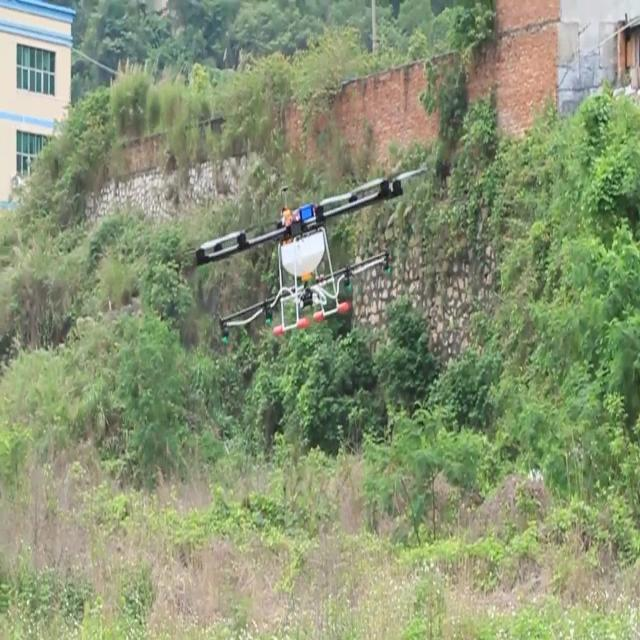drone: (183, 166, 425, 338)
